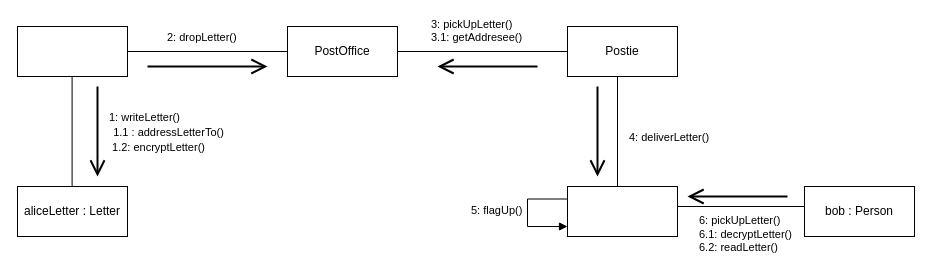
Some shapes in this 932 by 270 pixel diagram are drawn without their labels. The centre of each missing label's shape, as x and y in pixels:
"alice: Person" belongs at (x=72, y=51).
"bobLetterbox : Letterbox" belongs at (x=622, y=211).
